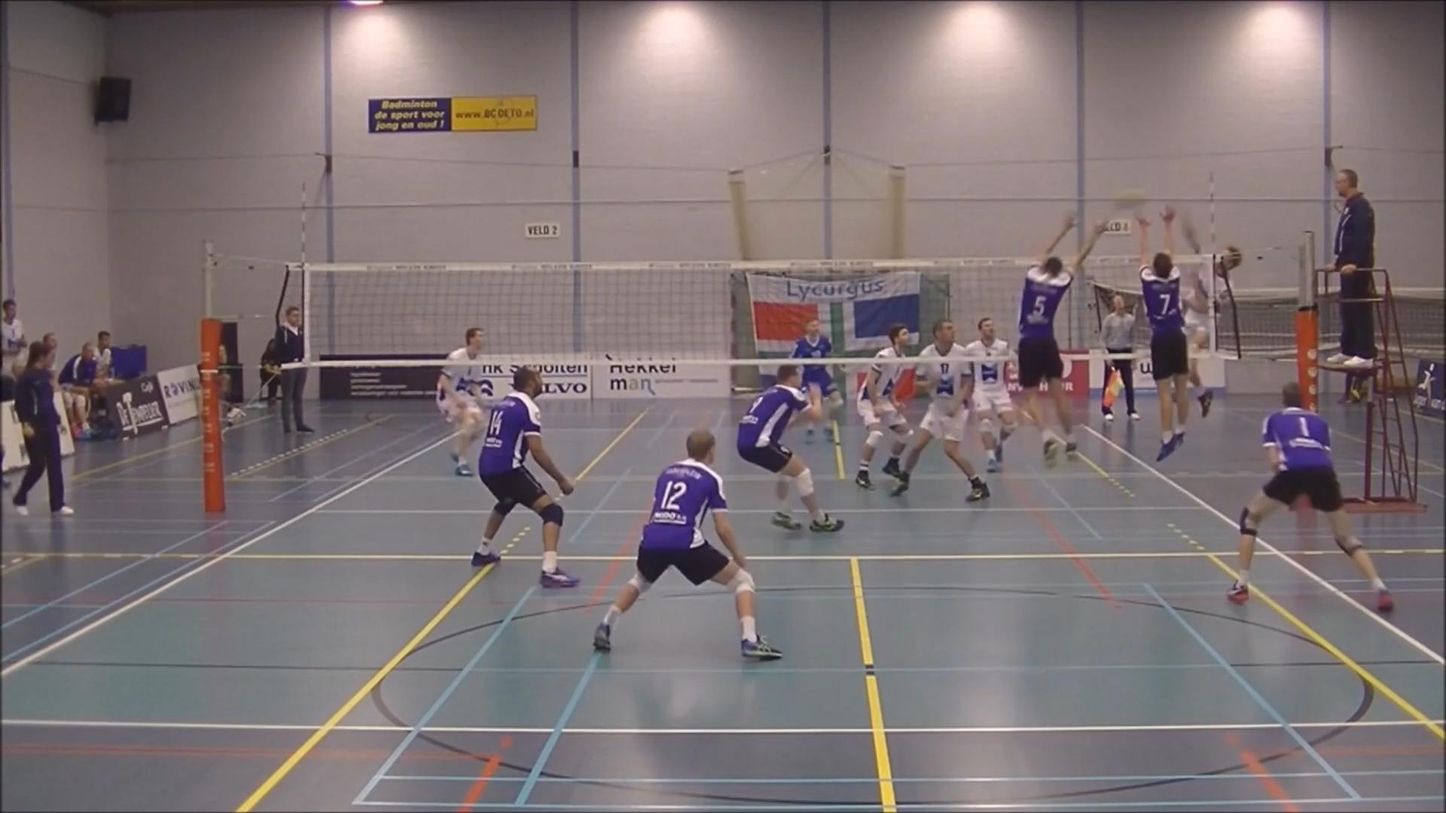attacco: (1174, 208, 1250, 417)
muro: (993, 205, 1101, 463), (1123, 202, 1214, 455)
